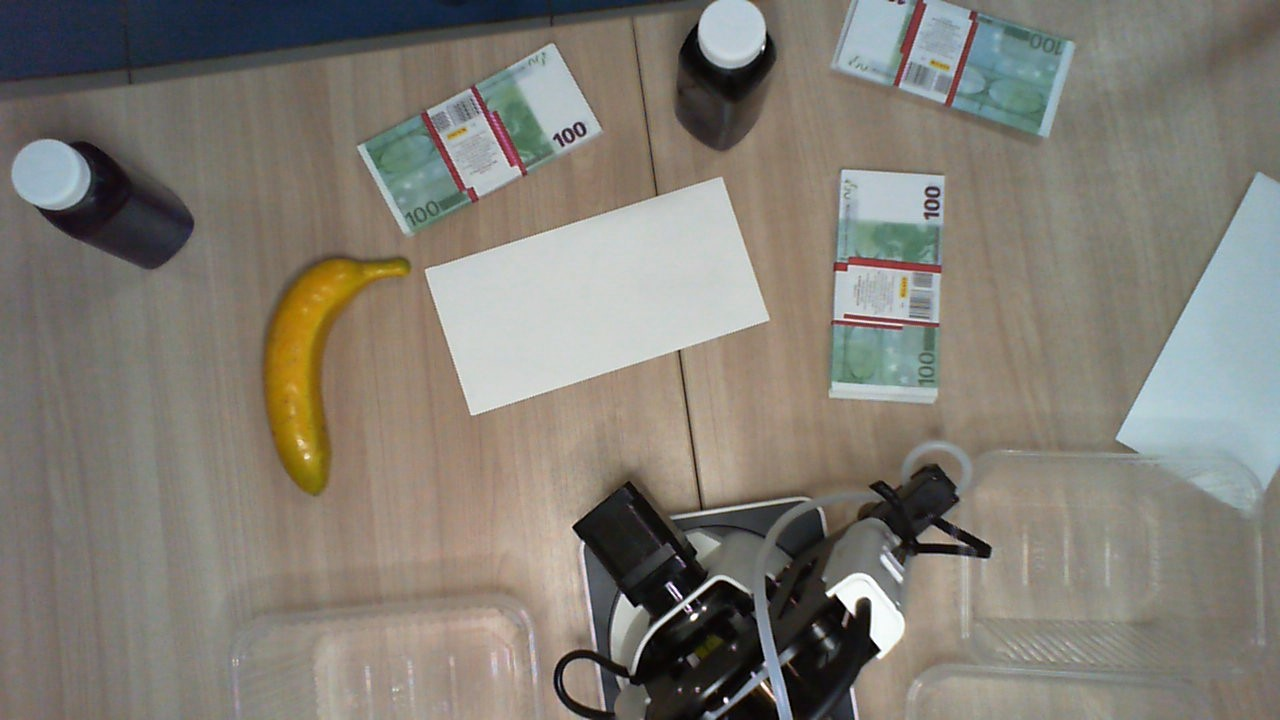banana: (263, 252, 410, 494)
bottle: (8, 135, 118, 247), (685, 2, 778, 95)
convert: (423, 172, 774, 417), (1116, 173, 1280, 512)
money: (356, 41, 605, 237), (833, 1, 1077, 143), (828, 170, 943, 404)
